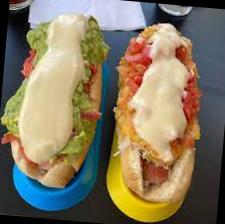Completos: (0, 8, 105, 211), (111, 16, 210, 210)
